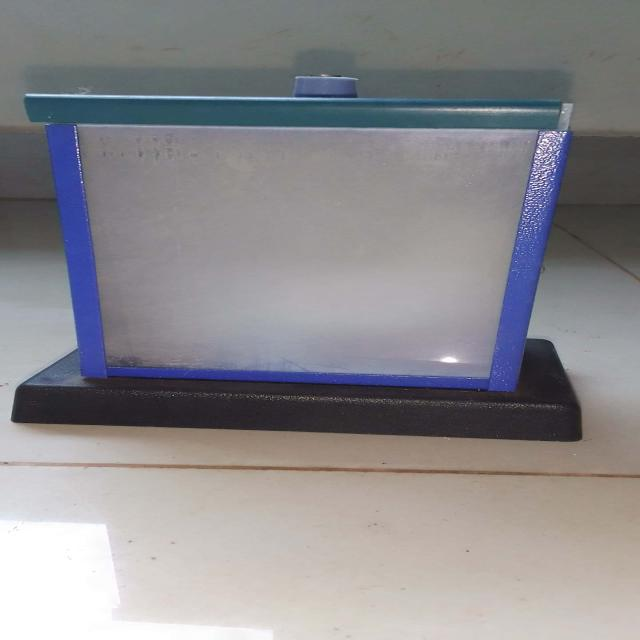Electroscope: (2, 36, 630, 454)
